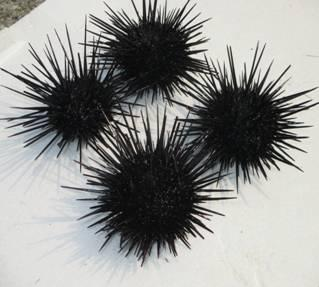urchin: (91, 136, 210, 256), (186, 66, 301, 180), (28, 53, 124, 143), (103, 13, 198, 97)
